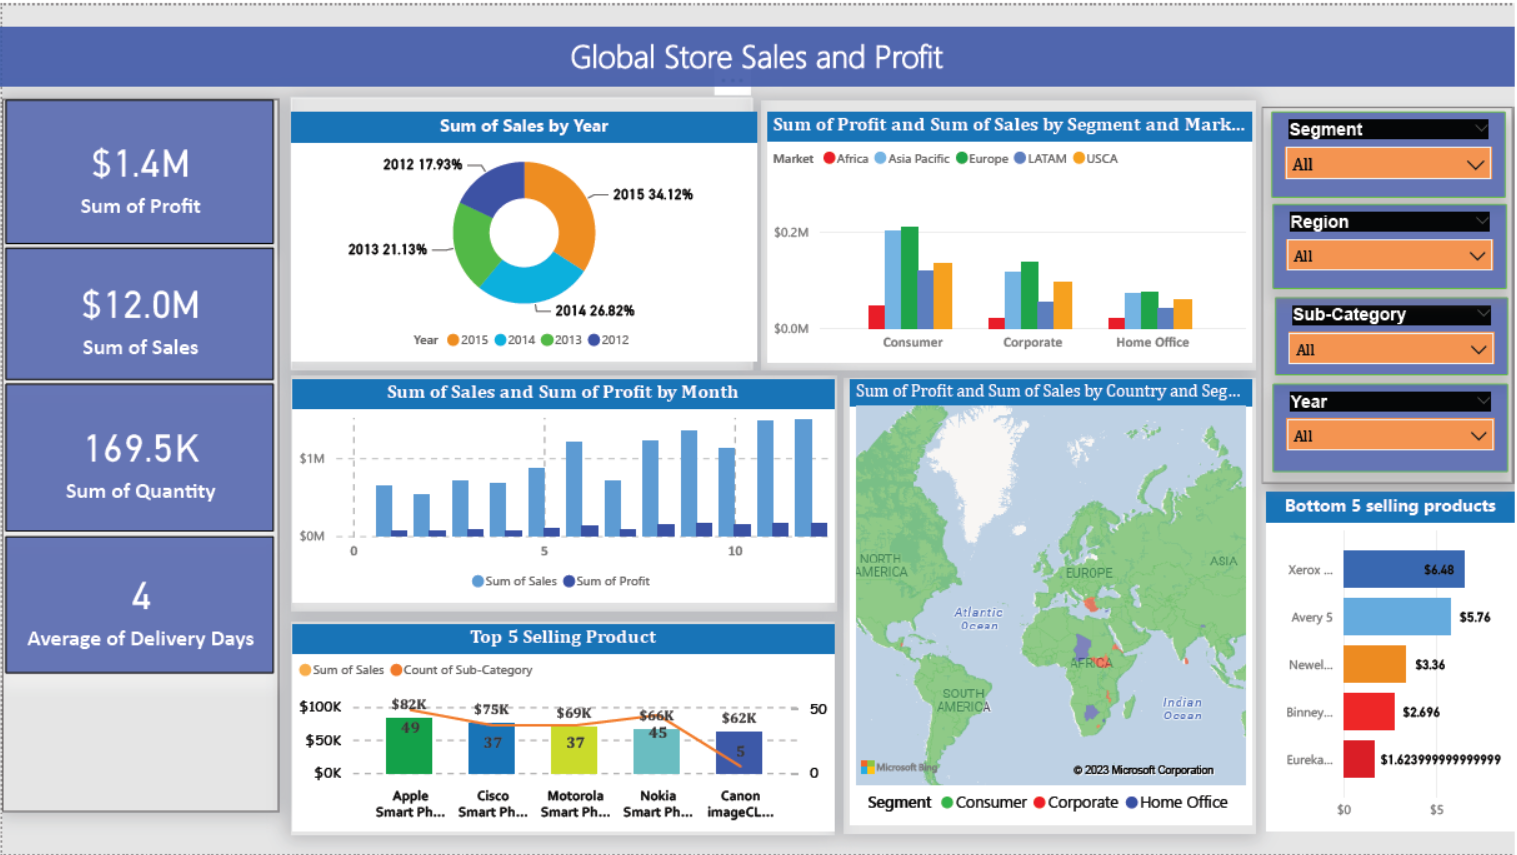

What the dashboard file says about the page in this screenshot:
{"tool":"powerbi","page":{"name":"Page 1","canvas":[1280,720],"ordinal":0},"visuals":[{"type":"card","fields":{"Values":["Sum(Orders.Profit)"]},"box":[4.7,81.3,227.5,121.2],"z":0},{"type":"textbox","box":[0,20,1280,49],"z":1000},{"type":"card","fields":{"Values":["Sum(Orders.Sales)"]},"box":[4.7,206.3,227.5,111.2],"z":2000},{"type":"slicer","fields":{"Values":["Orders.Segment"]},"box":[1075,91.2,197.5,72.5],"z":3000},{"type":"slicer","fields":{"Values":["Orders.Sub-Category"]},"box":[1077.5,247.5,197.5,66.2],"z":4000},{"type":"clusteredColumnChart","fields":{"Category":["Orders.Segment"],"Y":["Sum(Orders.Profit)"],"Series":["Orders.Market"]},"box":[648.8,91.7,408.8,211.1],"z":5000},{"type":"lineClusteredColumnComboChart","title":"Top 5 Selling Product","fields":{"Category":["Orders.Product Name"],"Y":["Sum(Orders.Sales)"],"Y2":["CountNonNull(Orders.Sub-Category)"]},"box":[247.5,525,457.5,173.8],"z":6000},{"type":"donutChart","fields":{"Category":["Orders.Year","Orders.Profit"],"Y":["Sum(Orders.Sales)"]},"box":[247.2,91.7,393.2,209.8],"z":7000},{"type":"slicer","fields":{"Values":["Orders.Region"]},"box":[1076.2,168.8,197.5,72.5],"z":8000},{"type":"card","fields":{"Values":["Sum(Orders.Quantity)"]},"box":[4.7,321.3,227.5,125],"z":9000},{"type":"card","fields":{"Values":["Avg(Orders.Delivery Days)"]},"box":[4.9,449.8,227.4,116.1],"z":10000},{"type":"clusteredBarChart","title":"Bottom 5 selling products","fields":{"Category":["Orders.Product Name"],"Y":["Sum(Orders.Sales)"]},"box":[1071.2,412.5,208.8,286.2],"z":11000},{"type":"clusteredColumnChart","fields":{"Category":["Orders.Month"],"Y":["Sum(Orders.Sales)","Sum(Orders.Profit)"]},"box":[247.5,317.5,457.5,188.8],"z":12000},{"type":"slicer","fields":{"Values":["Orders.Year"]},"box":[1076.2,321.2,198.8,75],"z":13000},{"type":"filledMap","fields":{"Category":["Orders.Country","Orders.Region"],"Series":["Orders.Segment"]},"box":[718.8,317.5,338.8,376.2],"z":14000}]}

Visuals, with their boxes in screenshot pixels (x1, y1, x2, y2), scaled from the page's 1280x720 canvas onto the 1517x855 screenshot:
card - Sum(Orders.Profit): l=6, t=97, r=275, b=240
textbox: l=0, t=24, r=1516, b=82
card - Sum(Orders.Sales): l=6, t=245, r=275, b=377
slicer - Orders.Segment: l=1274, t=108, r=1508, b=194
slicer - Orders.Sub-Category: l=1277, t=294, r=1511, b=373
clusteredColumnChart - Orders.Segment x Sum(Orders.Profit): l=769, t=109, r=1253, b=360
"Top 5 Selling Product" lineClusteredColumnComboChart: l=293, t=623, r=836, b=830
donutChart - Orders.Year x Orders.Profit: l=293, t=109, r=759, b=358
slicer - Orders.Region: l=1275, t=200, r=1510, b=287
card - Sum(Orders.Quantity): l=6, t=382, r=275, b=530
card - Avg(Orders.Delivery Days): l=6, t=534, r=275, b=672
"Bottom 5 selling products" clusteredBarChart: l=1270, t=490, r=1516, b=830
clusteredColumnChart - Orders.Month x Sum(Orders.Sales): l=293, t=377, r=836, b=601
slicer - Orders.Year: l=1275, t=381, r=1511, b=470
filledMap - Orders.Country x Orders.Region: l=852, t=377, r=1253, b=824
